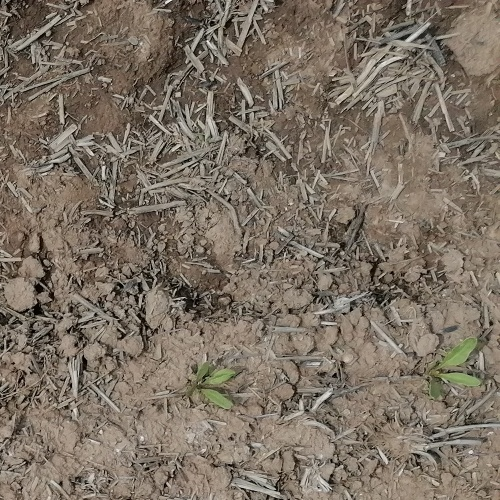beet: (425, 335, 483, 399), (179, 360, 239, 407)
